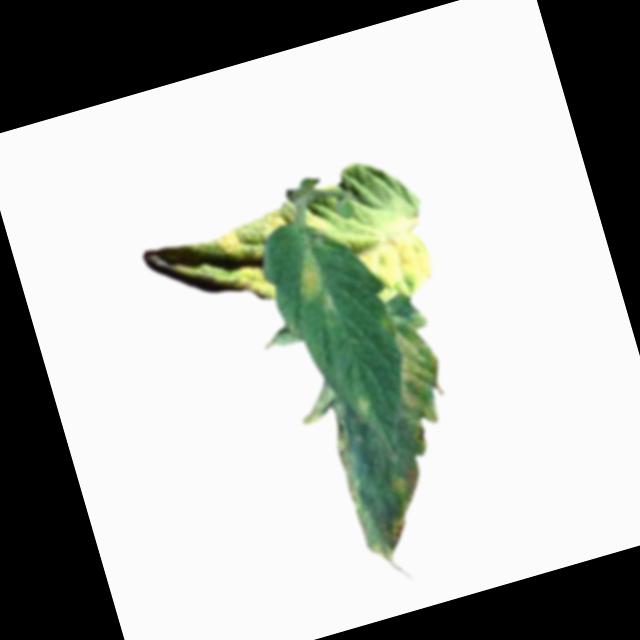Leaf_Mold: (161, 203, 312, 321), (376, 302, 455, 427), (356, 219, 440, 305), (383, 453, 429, 508), (290, 245, 330, 303), (379, 514, 412, 552)
